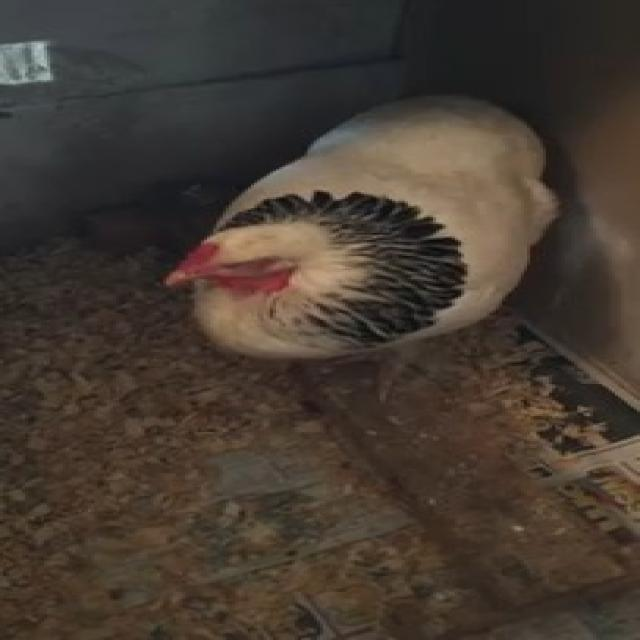Breathing: (157, 90, 558, 362)
